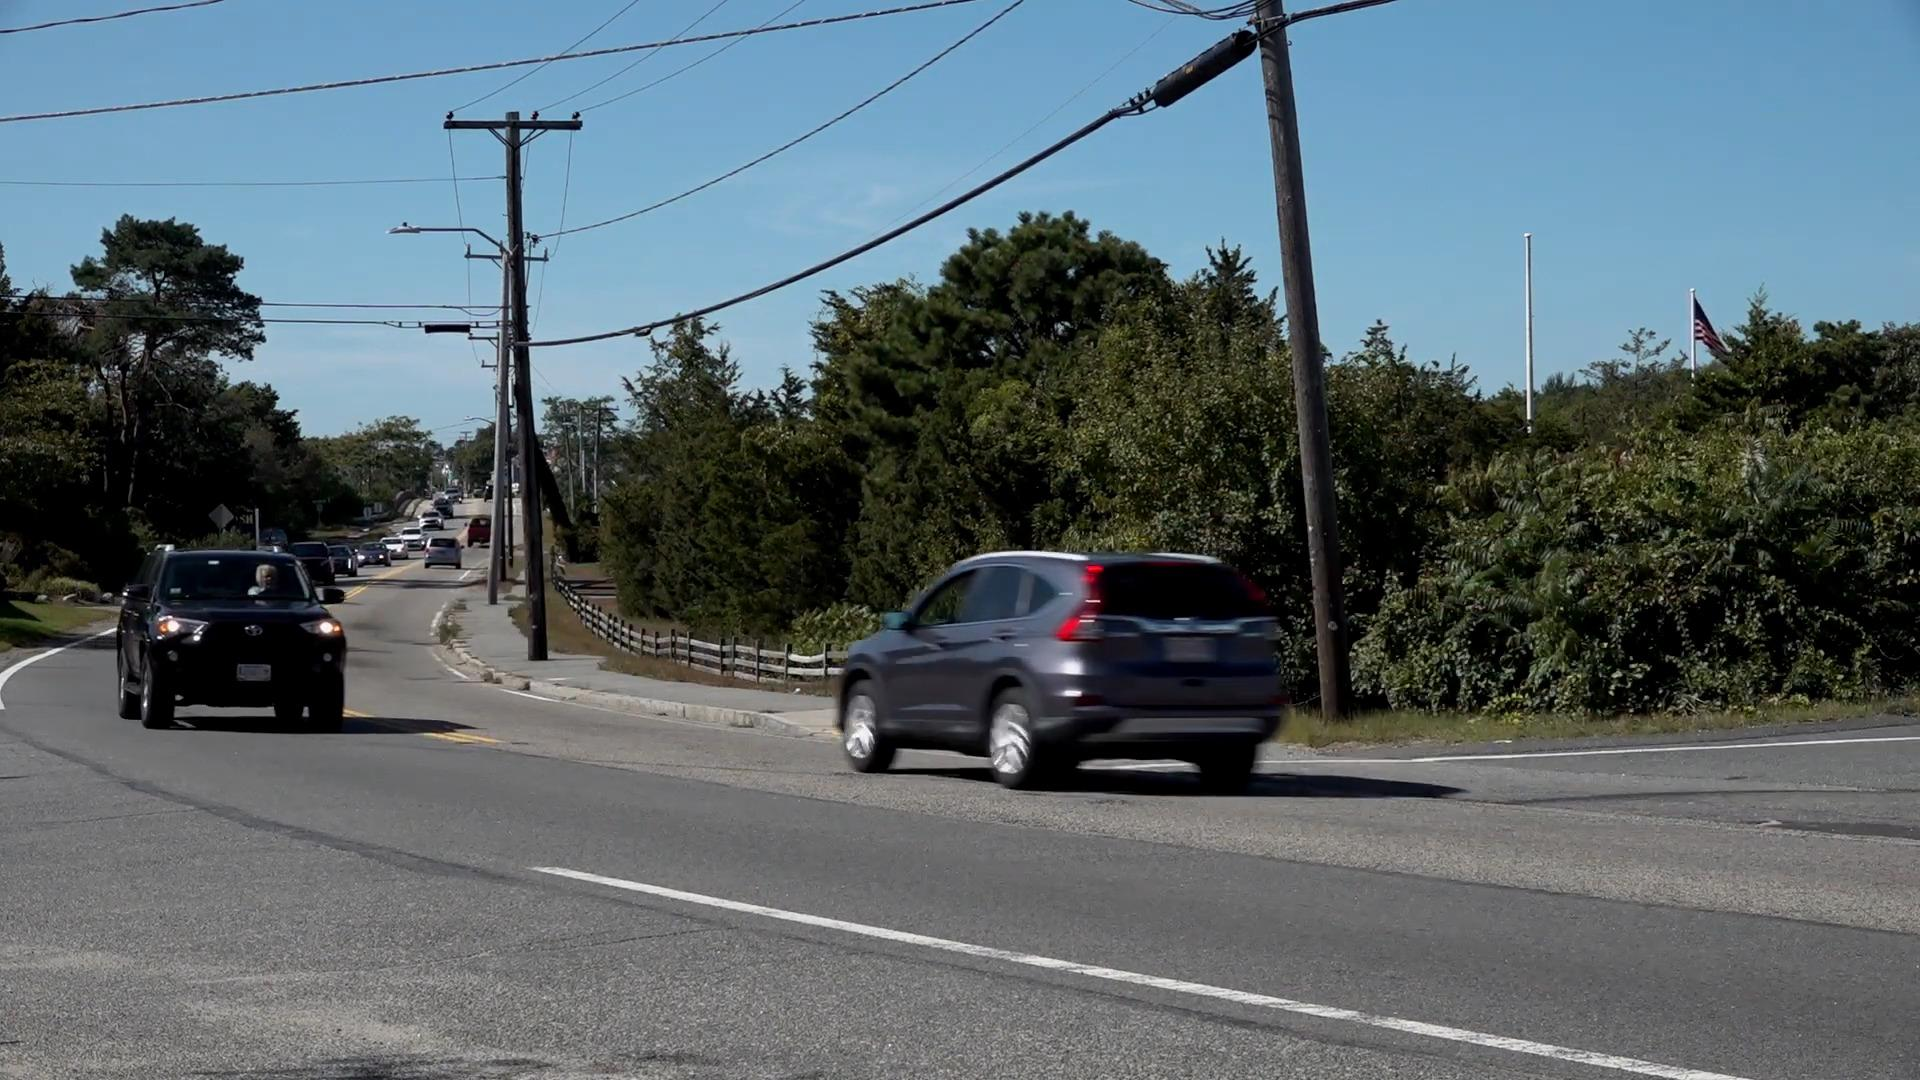suv: (835, 550, 1288, 791), (120, 543, 349, 733)
